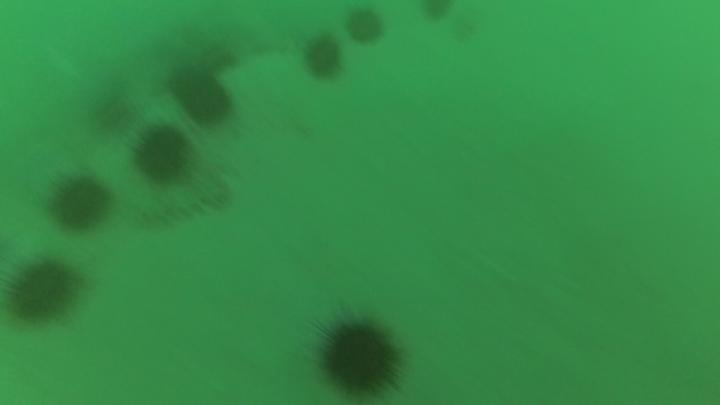echinus: (327, 328, 392, 392), (171, 70, 230, 122), (133, 129, 187, 179), (15, 267, 69, 315), (52, 184, 107, 230), (306, 41, 342, 76), (348, 12, 382, 42)
holothurian: (129, 185, 230, 232)
